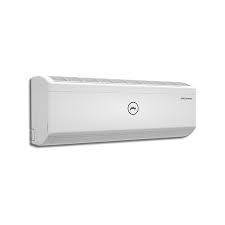ac: (27, 73, 201, 150)
